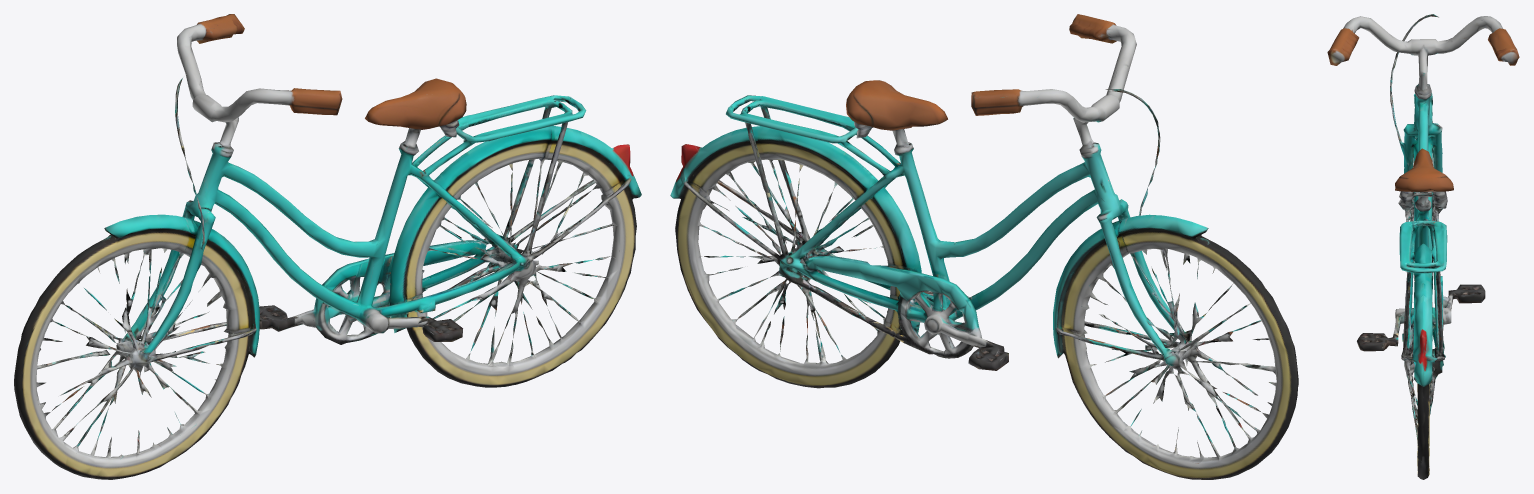
The model's file is bisiklet.fbx.
3 renders of one model, left to right at view 1: azimuth 30°, elevation 25°; view 2: azimuth 150°, elevation 25°; view 3: azimuth 270°, elevation 25°, orthographic. The views are drawn at different scales.
Parts seen in each view (by area): view 1: Mesh_0; view 2: Mesh_0; view 3: Mesh_0.
Boxes of the visible parts, left/top/right/bottom form: Mesh_0: left=14, top=14, right=641, bottom=479; Mesh_0: left=670, top=14, right=1298, bottom=479; Mesh_0: left=1327, top=14, right=1519, bottom=479.
Bounding box in the file's own units: 191 × 115 × 60.42.
1 material, 1 textured.
